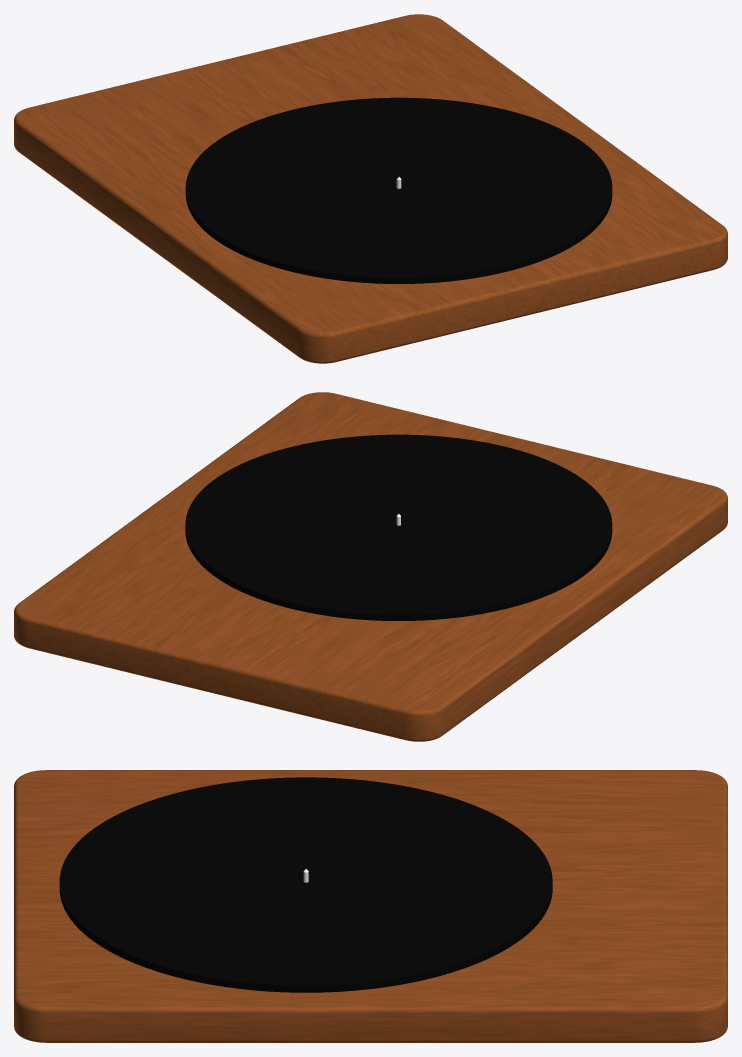
File: record-player.gltf
3 views of the same model, one above another, from view 1: azimuth 30°, elevation 25°; view 2: azimuth 150°, elevation 25°; view 3: azimuth 270°, elevation 25° (orthographic). The views are drawn at different scales.
Parts seen in each view (by area): view 1: Wooden Desk.001, Plate.001; view 2: Wooden Desk.001, Plate.001; view 3: Wooden Desk.001, Plate.001.
Boxes of the visible parts, x1,y1,x2,y2 form: Wooden Desk.001: [14, 14, 727, 363]; Plate.001: [185, 97, 612, 283]; Wooden Desk.001: [14, 392, 727, 741]; Plate.001: [185, 434, 612, 620]; Wooden Desk.001: [14, 770, 727, 1042]; Plate.001: [59, 777, 552, 992].
Size of the model in its own units: 0.3478 by 0.0377 by 0.4371.
Materials: 3 (1 with a texture image).
